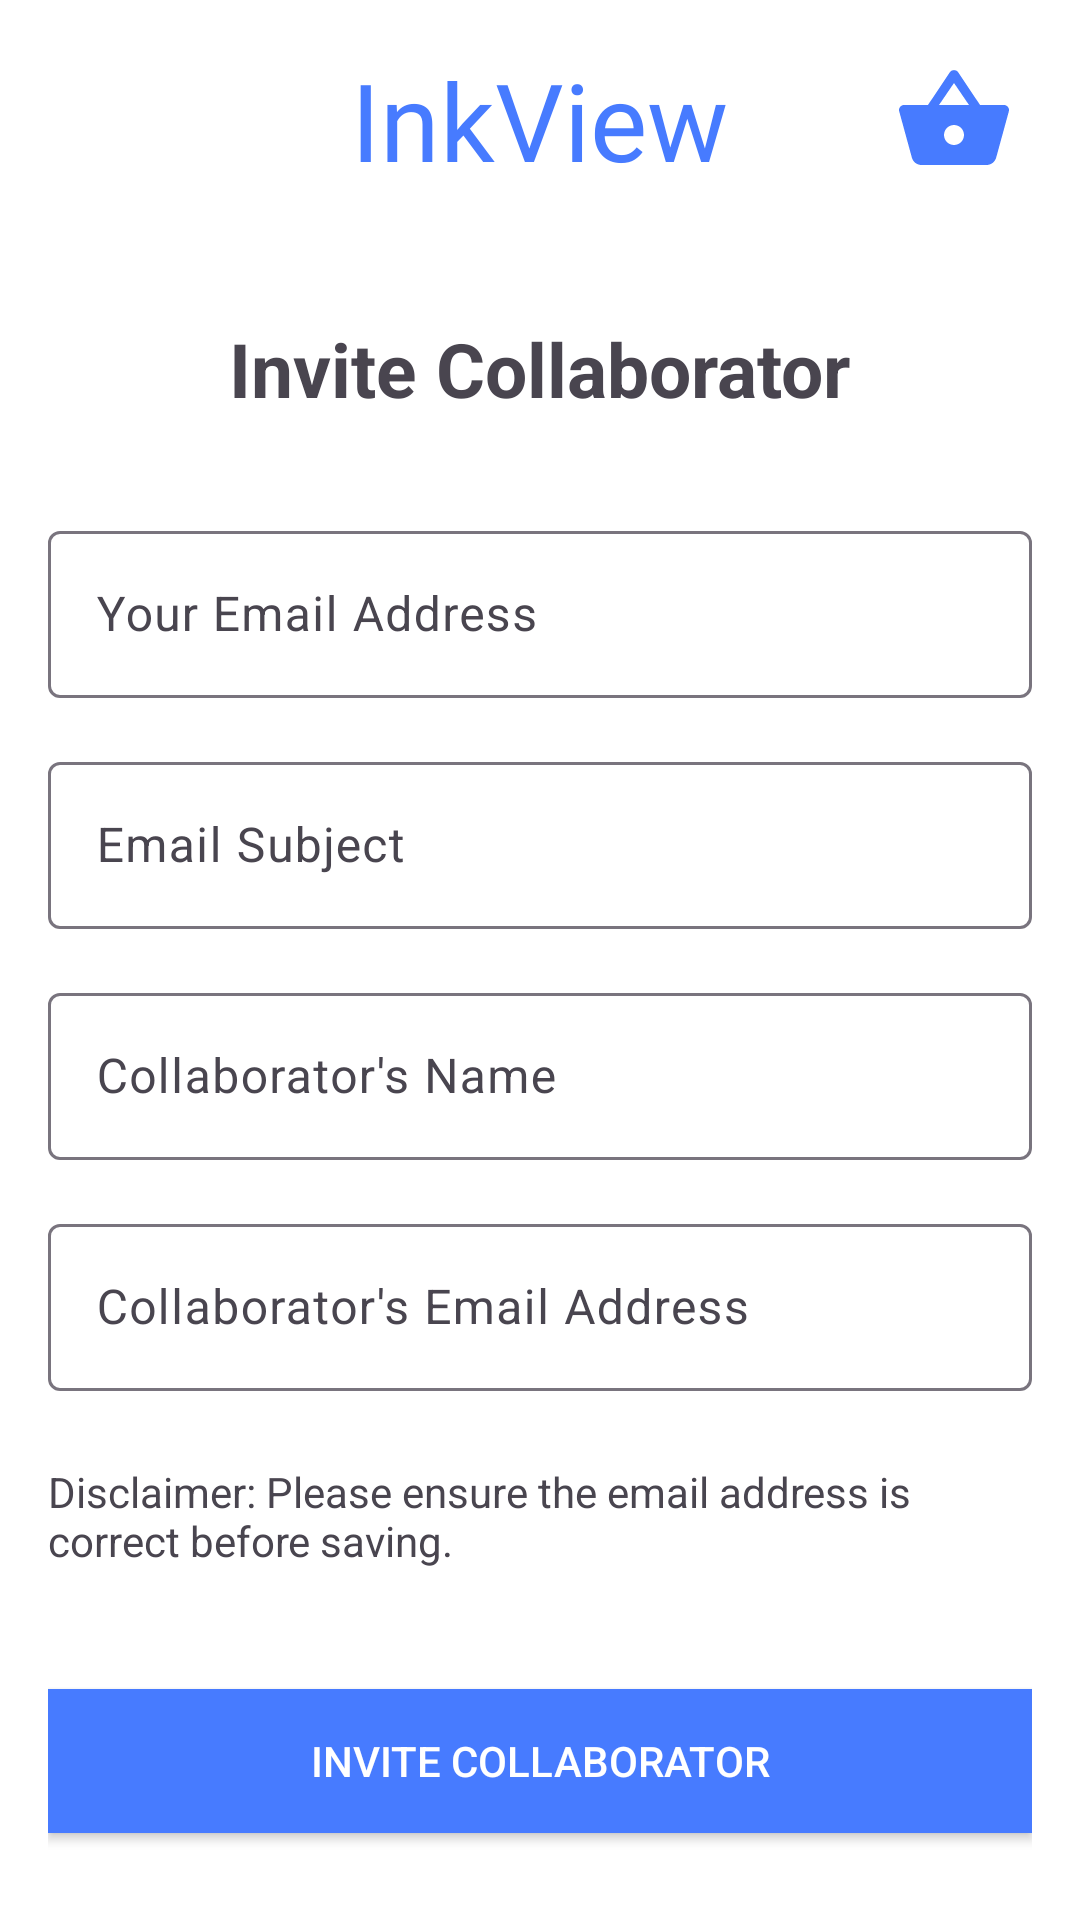

Icon click points for this 1080 x 1920 phone screenshot, format (x,y):
Basket: (954,117)
